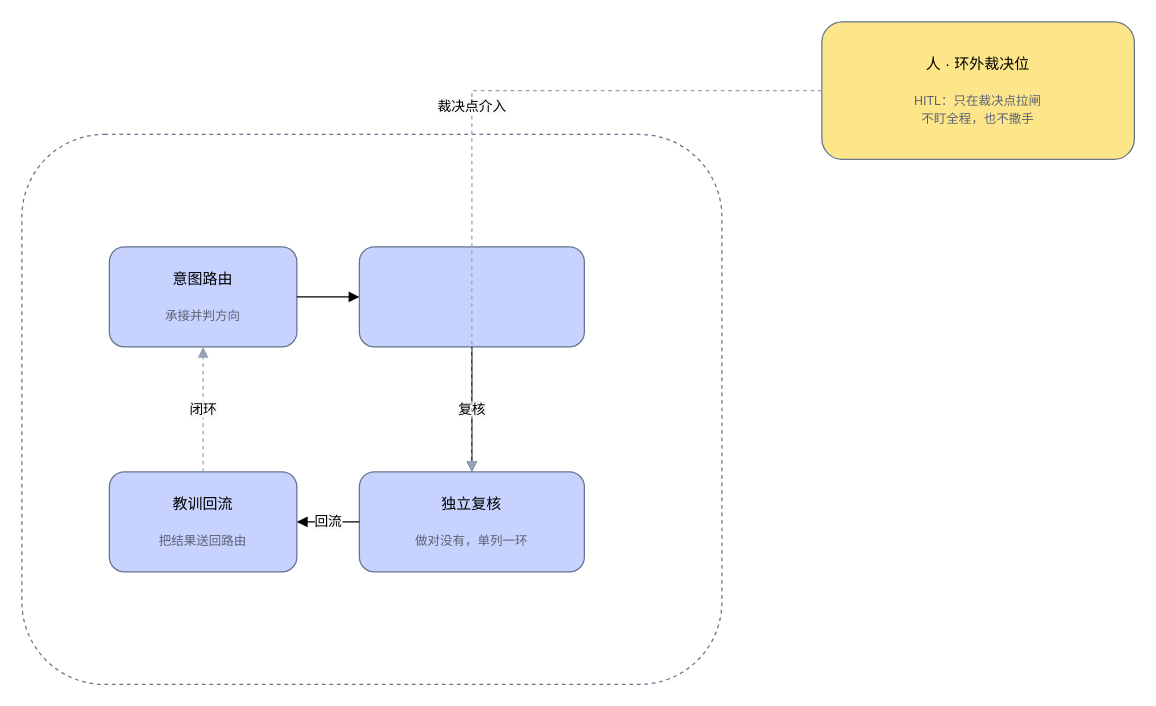
Some shapes in this 1156 by 706 pixel diagram are drawn without their labels. The box of each missing label's shape, as (x1, y1, x2, y2) in pixels:
执行子 Agent 无状态跑当下: (358, 246, 584, 347)
流水线闭环 · 自动化主链 路由 → 执行 → 复核 → 回流，环带里没有人: (21, 133, 722, 684)
